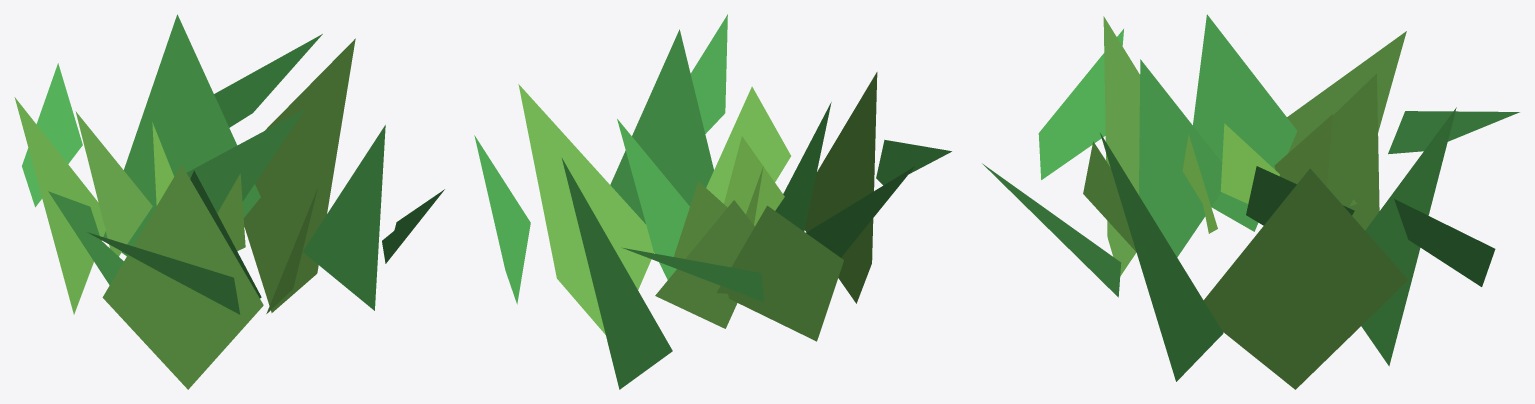
The model's file is potatoe_stage_3.glb.
The picture shows the model from 3 angles, left to right: view 1: azimuth 30°, elevation 25°; view 2: azimuth 150°, elevation 25°; view 3: azimuth 270°, elevation 25°; orthographic projection. The views are drawn at different scales.
Visible parts, largest first — view 1: Plane.035, Plane.047, Plane.038, Plane.039, Plane.040, Plane.043, Plane.051, Plane.029, Plane.027, Plane.049, Plane.037, Plane.041 (+4 smaller); view 2: Plane.047, Plane.040, Plane.039, Plane.038, Plane.035, Plane.043, Plane.051, Plane.034, Plane.027, Plane.037, Plane.052, Plane.041 (+4 smaller); view 3: Plane.047, Plane.048, Plane.037, Plane.039, Plane.038, Plane.043, Plane.035, Plane.049, Plane.040, Plane.027, Plane.029, Plane.052 (+5 smaller).
Part boxes in pixels (<box>): Plane.035: <box>102,165,263,389</box>; Plane.047: <box>243,38,355,312</box>; Plane.038: <box>103,14,260,256</box>; Plane.039: <box>302,125,385,310</box>; Plane.040: <box>14,97,105,314</box>; Plane.043: <box>75,111,152,256</box>; Plane.051: <box>187,109,304,212</box>; Plane.029: <box>22,63,82,207</box>; Plane.027: <box>214,34,322,127</box>; Plane.049: <box>87,232,240,314</box>; Plane.037: <box>48,191,123,285</box>; Plane.041: <box>217,173,245,250</box>; Plane.047: <box>518,84,654,334</box>; Plane.040: <box>717,205,843,341</box>; Plane.039: <box>610,29,713,223</box>; Plane.038: <box>562,158,672,389</box>; Plane.035: <box>805,72,877,303</box>; Plane.043: <box>655,200,754,328</box>; Plane.051: <box>617,119,689,279</box>; Plane.034: <box>706,86,790,203</box>; Plane.027: <box>474,135,530,304</box>; Plane.037: <box>806,166,914,257</box>; Plane.052: <box>690,14,727,133</box>; Plane.041: <box>724,136,784,225</box>; Plane.047: <box>1203,168,1407,389</box>; Plane.048: <box>1139,59,1222,257</box>; Plane.037: <box>1193,14,1297,231</box>; Plane.039: <box>1100,133,1223,381</box>; Plane.038: <box>1361,107,1456,366</box>; Plane.043: <box>1327,73,1379,230</box>; Plane.035: <box>1103,16,1139,275</box>; Plane.049: <box>1038,29,1123,179</box>; Plane.040: <box>1287,31,1406,206</box>; Plane.027: <box>1394,199,1495,286</box>; Plane.029: <box>1388,111,1519,154</box>; Plane.052: <box>982,163,1121,297</box>.
Bounding box in the file's own units: 0.9404 × 0.6438 × 1.12.
